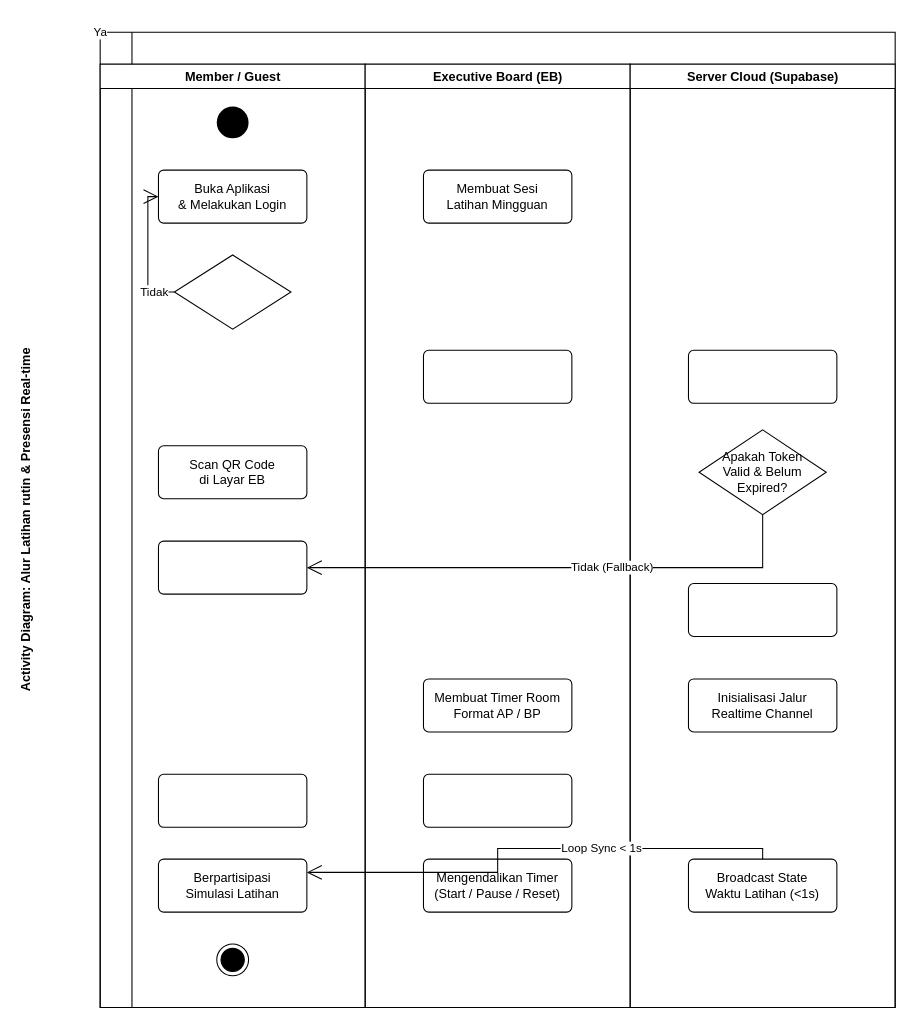
This 914x1026 diagram has some shape labels left out. Here are the shapes that lost their labels. From the top down, the box of each, then its label:
(173, 254, 291, 329): Apakah Status Approved?
(422, 349, 572, 403): Generate & Tampilkan QR Code Dinamis
(687, 349, 837, 403): Simpan Sesi & Token QR ke DB
(157, 540, 307, 594): Input Token Manual (Fallback Mode)
(687, 582, 837, 637): Tulis Data Kehadiran ke attendance_records
(157, 773, 307, 827): Input PIN 6-Digit & Join Timer Room
(422, 773, 572, 827): Membagikan PIN 6-Digit Room
